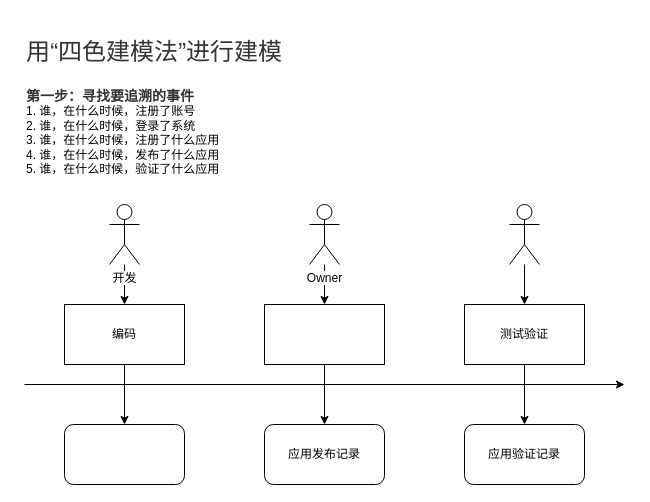
Some shapes in this 650 by 502 pixel diagram are drawn without their labels. Each missing label, with the box of its shape:
发布项目: (264, 304, 384, 364)
应用变更记录: (64, 424, 184, 484)
测试: (508, 204, 540, 264)
